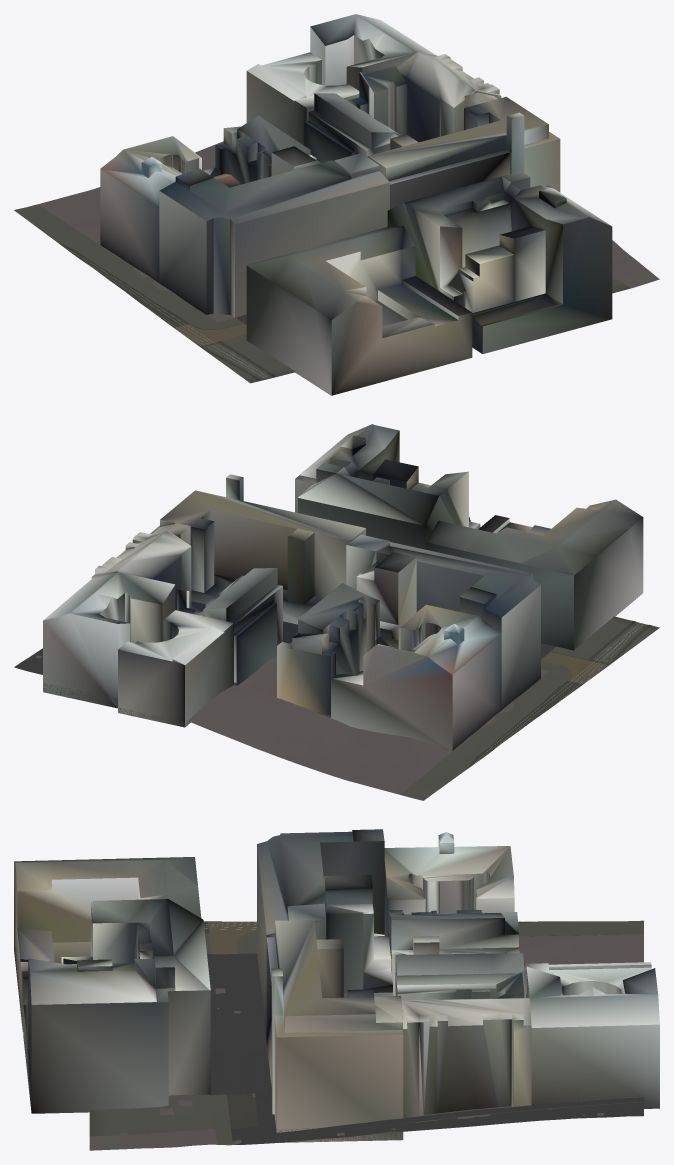
3 views of the same model, one above another, from view 1: azimuth 30°, elevation 25°; view 2: azimuth 150°, elevation 25°; view 3: azimuth 270°, elevation 25° (orthographic). The views are drawn at different scales.
Parts seen in each view (by area): view 1: c_m03_m01; view 2: c_m03_m01; view 3: c_m03_m01.
Boxes of the visible parts, left/top/right/bottom form: c_m03_m01: left=14, top=14, right=659, bottom=395; c_m03_m01: left=14, top=424, right=659, bottom=800; c_m03_m01: left=14, top=829, right=659, bottom=1150.
Size of the model in its own units: 128 by 37.63 by 149.
